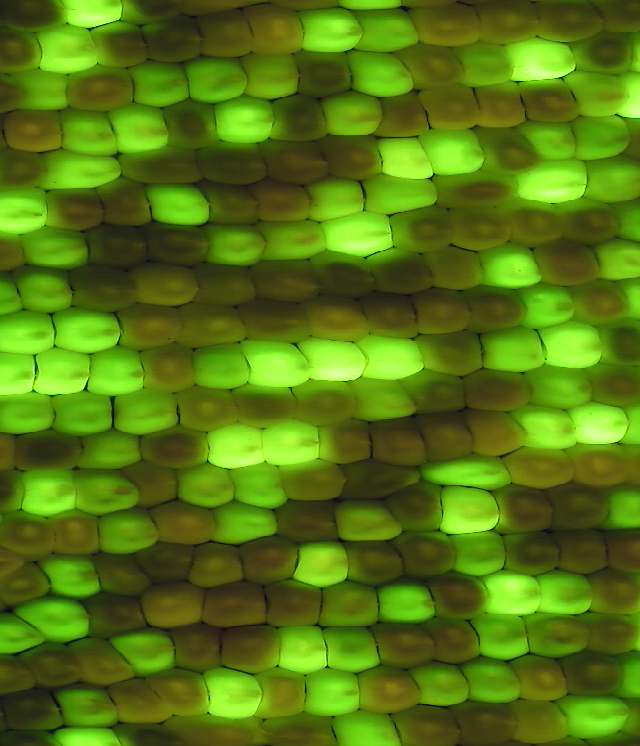fluorescent: (317, 208, 401, 256), (238, 336, 311, 391), (47, 308, 129, 355), (40, 146, 125, 191), (434, 483, 505, 535), (348, 45, 415, 100), (142, 179, 216, 228), (56, 104, 121, 159), (553, 693, 634, 737), (103, 104, 172, 155), (473, 242, 546, 290), (74, 464, 142, 515), (15, 597, 92, 642), (109, 628, 181, 676), (451, 42, 524, 89), (298, 335, 368, 384), (505, 37, 579, 83), (202, 667, 266, 720), (421, 126, 487, 177), (525, 365, 598, 411), (362, 173, 441, 215), (354, 7, 424, 54), (13, 263, 76, 315), (30, 348, 95, 398), (303, 174, 368, 224), (517, 159, 589, 204), (465, 613, 535, 659), (515, 404, 582, 452), (537, 323, 604, 371), (419, 457, 519, 489), (18, 227, 92, 270), (35, 27, 104, 73), (317, 90, 386, 136), (116, 388, 182, 436), (18, 466, 84, 514), (50, 685, 123, 728), (320, 624, 384, 673), (126, 61, 194, 107), (296, 6, 364, 52), (36, 552, 104, 598), (182, 56, 253, 100), (374, 577, 439, 625), (409, 661, 475, 708), (567, 400, 632, 447), (291, 539, 353, 588), (480, 328, 546, 374), (257, 218, 331, 259), (49, 390, 114, 436), (212, 97, 277, 143), (96, 509, 162, 554), (358, 334, 425, 378), (481, 570, 545, 616), (304, 669, 364, 718), (201, 221, 266, 266), (174, 463, 239, 508), (211, 502, 279, 545), (333, 500, 404, 541), (570, 69, 628, 119), (262, 421, 325, 467), (571, 113, 632, 160), (230, 462, 291, 509), (448, 530, 511, 575), (12, 67, 73, 113), (535, 568, 596, 614), (585, 155, 640, 206), (461, 659, 523, 704), (379, 135, 437, 183), (203, 425, 269, 467), (326, 712, 407, 746), (86, 347, 143, 395), (77, 427, 142, 469), (242, 52, 302, 97), (0, 185, 54, 234), (278, 625, 333, 673), (191, 344, 252, 387), (0, 310, 57, 354), (516, 288, 578, 327), (0, 391, 57, 433), (520, 120, 583, 158), (588, 238, 640, 280), (0, 612, 46, 655), (0, 348, 40, 397), (63, 1, 130, 29), (603, 486, 640, 533), (54, 724, 124, 746), (341, 1, 415, 17)
nonfluorescent: (137, 579, 208, 631), (392, 528, 464, 579), (118, 144, 204, 186), (189, 260, 261, 310), (66, 635, 138, 684), (229, 381, 299, 431), (458, 406, 527, 456), (140, 423, 213, 470), (318, 132, 389, 180), (448, 699, 520, 746), (259, 137, 328, 186), (300, 297, 370, 345), (380, 482, 447, 532), (412, 410, 477, 461), (69, 264, 141, 310), (413, 330, 485, 376), (218, 624, 284, 674), (200, 581, 270, 628), (145, 668, 212, 717), (235, 300, 311, 343), (337, 460, 423, 498), (473, 1, 544, 47), (128, 262, 202, 306), (249, 259, 323, 303), (179, 300, 248, 347), (0, 511, 60, 565), (195, 142, 270, 185), (242, 3, 305, 54), (491, 484, 555, 534), (501, 445, 577, 487), (197, 177, 262, 226), (533, 240, 602, 286), (307, 252, 376, 298), (554, 197, 620, 245), (447, 205, 513, 253), (342, 534, 405, 584), (389, 704, 464, 746), (271, 498, 342, 542), (158, 99, 223, 147), (461, 284, 527, 331), (115, 304, 185, 348), (366, 248, 436, 292), (370, 417, 430, 468), (17, 642, 85, 687), (357, 293, 422, 340), (293, 378, 359, 424), (546, 483, 612, 529), (10, 430, 84, 471), (409, 4, 481, 46), (462, 368, 534, 410), (368, 622, 435, 667), (357, 667, 424, 712), (274, 462, 349, 502), (107, 681, 175, 725), (164, 622, 225, 671), (535, 1, 606, 43), (41, 187, 107, 232), (238, 537, 301, 584), (261, 581, 324, 628), (174, 386, 241, 430), (387, 209, 457, 251), (420, 86, 485, 131), (146, 503, 217, 544), (164, 716, 261, 746), (422, 617, 485, 663), (433, 173, 518, 207), (404, 370, 471, 413), (478, 125, 538, 173), (137, 343, 195, 392), (567, 442, 630, 487), (95, 180, 155, 227), (120, 460, 180, 507), (3, 109, 67, 153), (83, 594, 147, 638), (65, 69, 135, 109), (398, 45, 468, 85), (135, 541, 197, 586), (509, 656, 571, 701), (502, 531, 565, 575), (428, 570, 488, 616), (143, 220, 207, 263), (91, 23, 152, 68), (294, 52, 355, 97), (413, 290, 475, 334), (315, 421, 377, 465), (90, 552, 152, 596), (512, 697, 574, 741), (562, 653, 625, 696), (84, 224, 148, 266), (423, 246, 482, 291), (505, 200, 564, 245), (568, 279, 628, 323), (554, 528, 611, 574), (189, 541, 244, 588), (518, 80, 581, 121), (376, 95, 432, 141), (1, 691, 62, 733), (270, 96, 328, 140), (256, 670, 308, 719), (197, 13, 253, 58), (251, 179, 311, 221), (588, 570, 640, 618), (0, 558, 53, 605), (49, 510, 103, 556), (580, 612, 638, 654), (148, 16, 202, 61), (575, 31, 633, 72), (262, 715, 338, 746), (475, 84, 527, 125), (589, 366, 640, 406), (0, 28, 46, 72), (0, 148, 47, 191), (7, 1, 68, 31), (601, 319, 640, 363), (603, 527, 640, 572), (0, 651, 38, 694), (123, 725, 199, 746), (600, 1, 640, 35), (118, 1, 177, 22), (171, 1, 271, 13), (0, 734, 59, 746), (276, 1, 341, 11), (544, 737, 584, 746)
